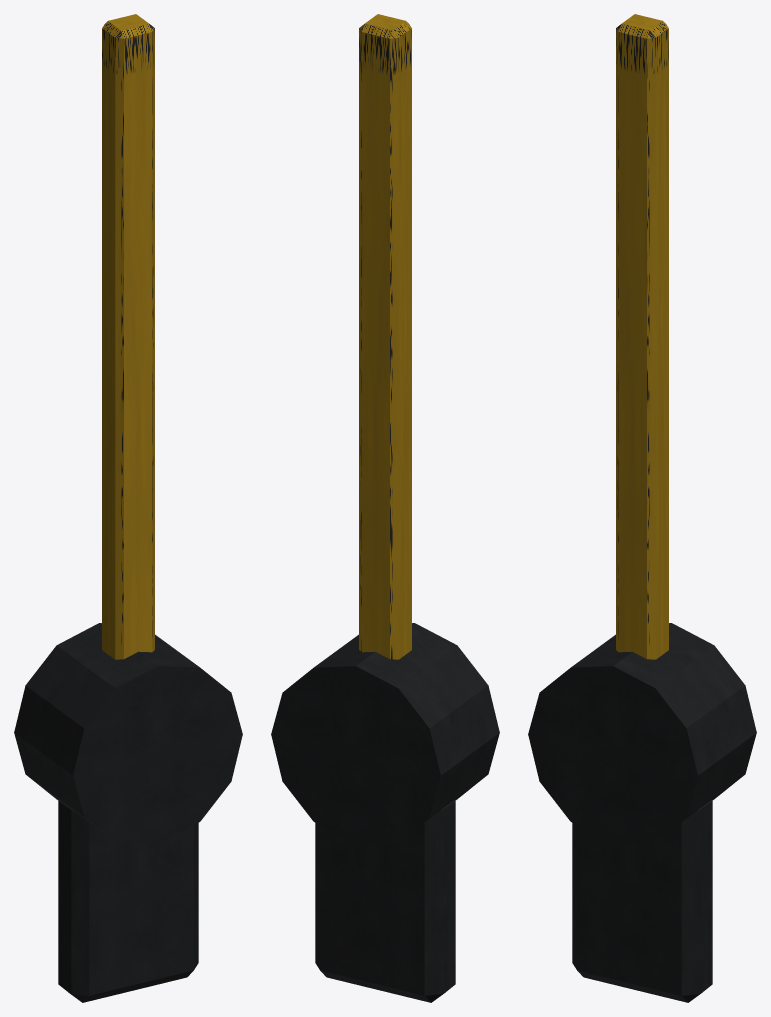
The model's file is HarborGaugeNeedle.fbx.
3 renders of one model, left to right at view 1: azimuth 30°, elevation 25°; view 2: azimuth 150°, elevation 25°; view 3: azimuth 330°, elevation 25°, orthographic.
Parts seen in each view (by area): view 1: HarborGaugeNeedle.001; view 2: HarborGaugeNeedle.001; view 3: HarborGaugeNeedle.001.
Boxes of the visible parts, left/top/right/bottom form: HarborGaugeNeedle.001: left=14, top=14, right=242, bottom=1002; HarborGaugeNeedle.001: left=271, top=14, right=499, bottom=1002; HarborGaugeNeedle.001: left=528, top=14, right=756, bottom=1002.
Bounding box in the file's own units: 0.06 × 0.325 × 0.036.
